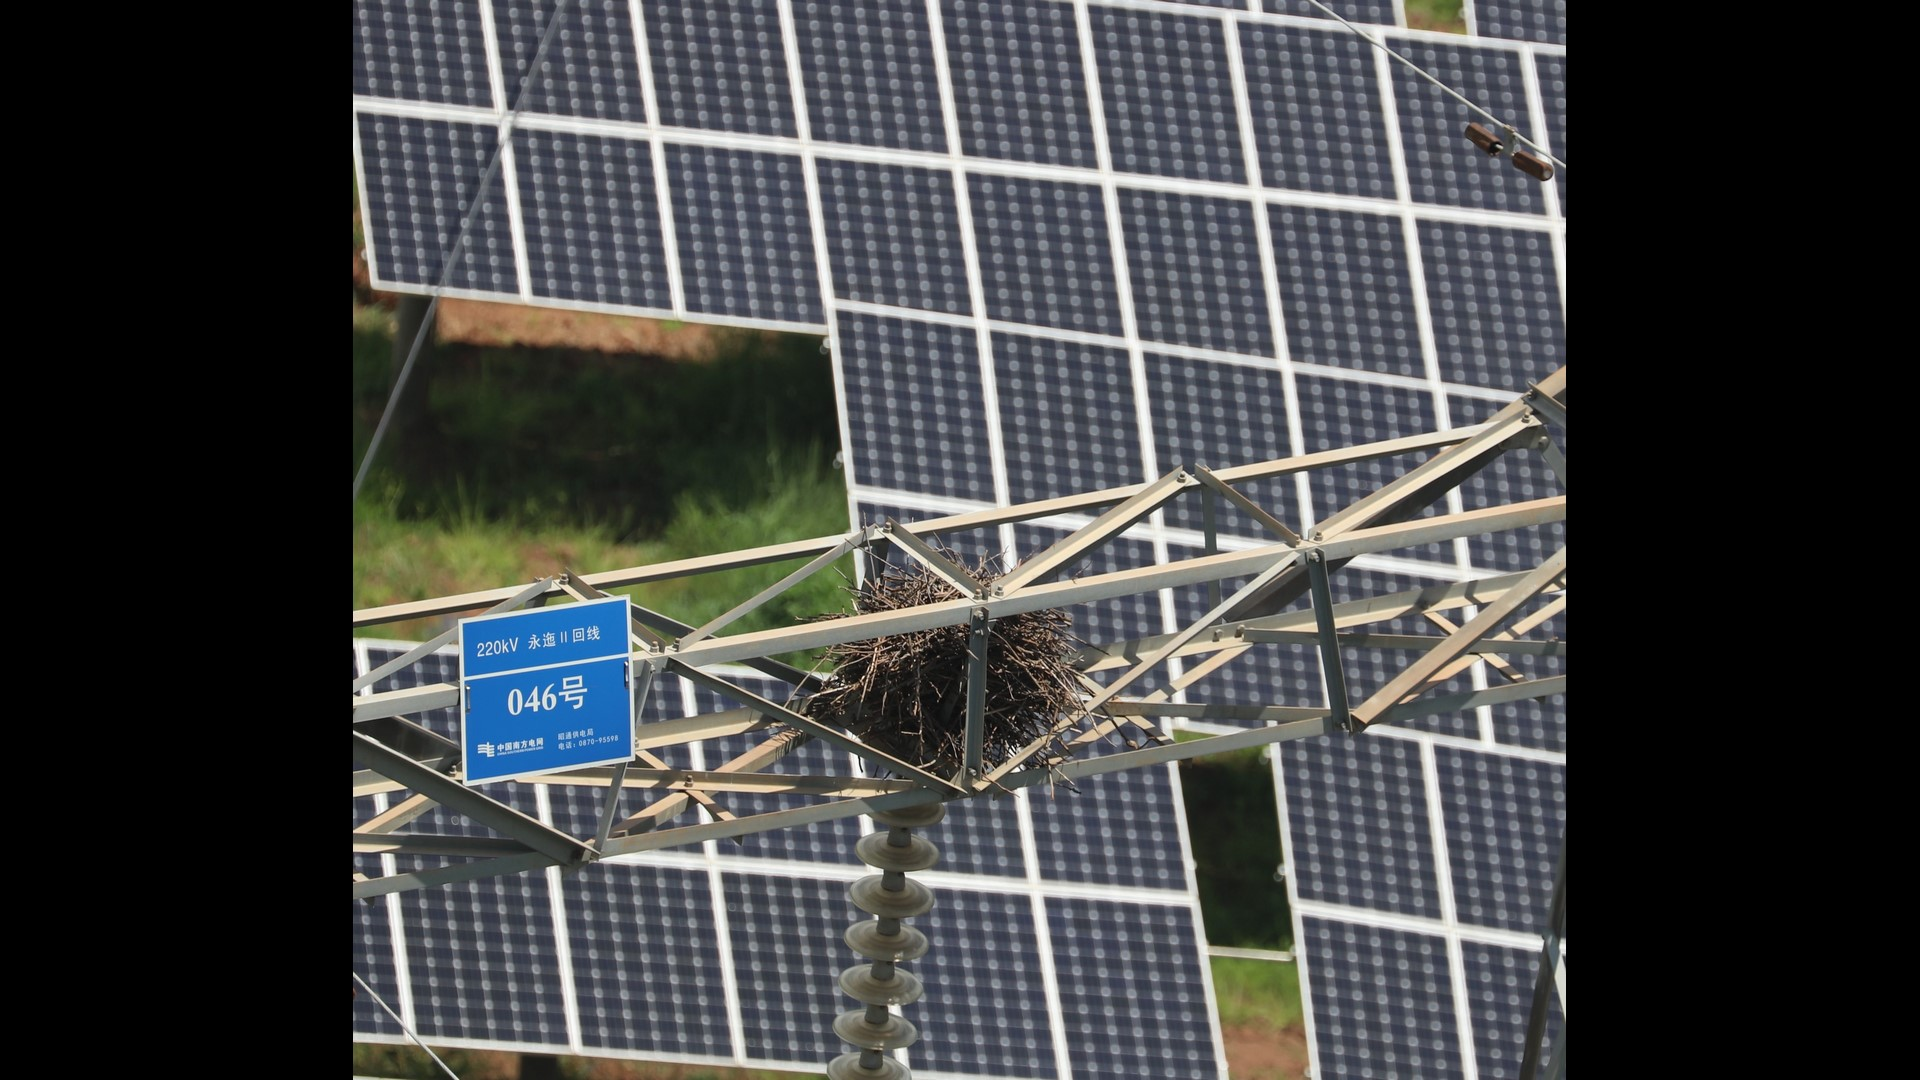niaowo: (810, 541, 1098, 794)
